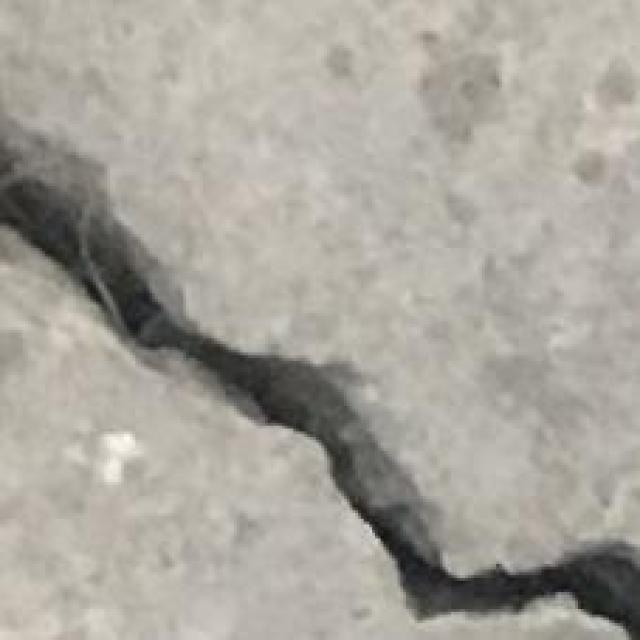Crack: (3, 121, 640, 637)
